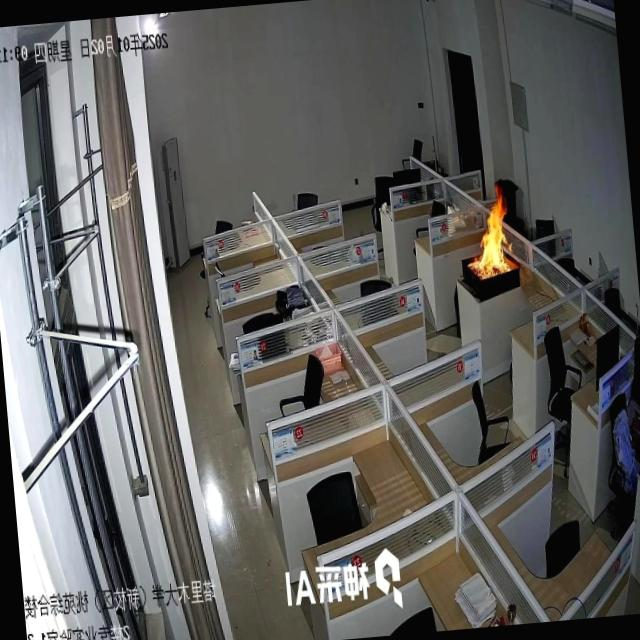fire: (454, 175, 526, 310)
